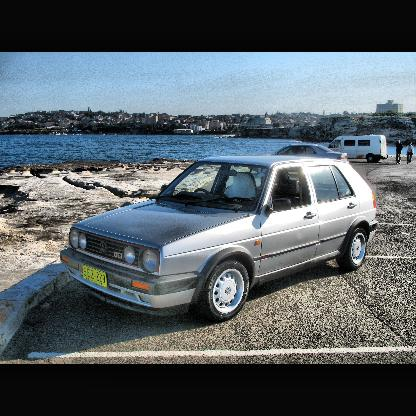Volkswagen Golf Hatchback 1991: (63, 157, 379, 321)
